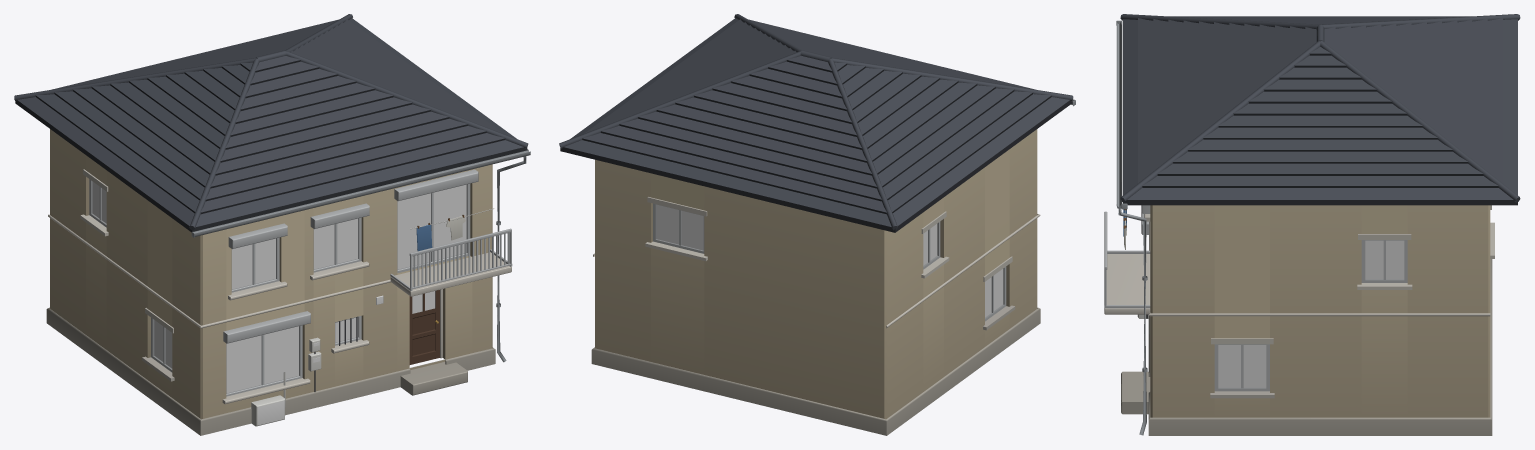
The model's file is HouseKM.fbx.
The picture shows the model from 3 angles, left to right: view 1: azimuth 30°, elevation 25°; view 2: azimuth 150°, elevation 25°; view 3: azimuth 270°, elevation 25°; orthographic projection. The views are drawn at different scales.
Visible parts, largest first — view 1: HouseKM; view 2: HouseKM; view 3: HouseKM.
Part boxes in pixels (box(x1,y1,x2,y2)): HouseKM: box(14, 14, 530, 435); HouseKM: box(559, 14, 1075, 435); HouseKM: box(1104, 14, 1520, 435).
Size of the model in its own units: 9.51 by 7.75 by 9.05.
